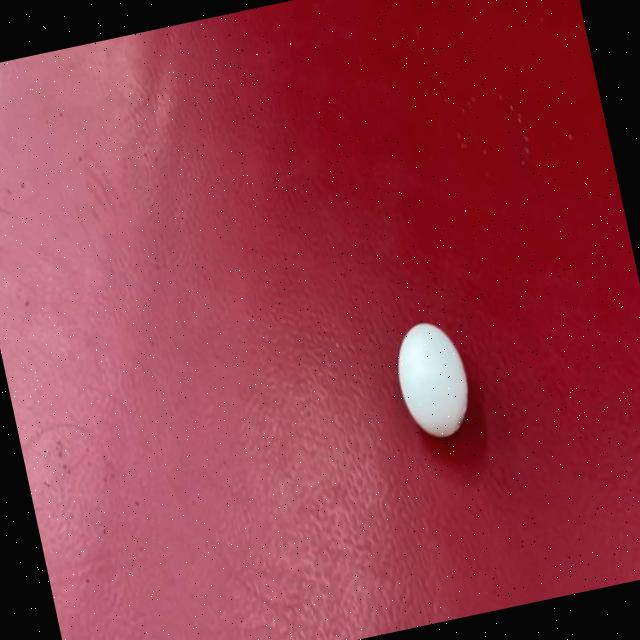ping-pong-ball: (384, 310, 480, 446)
